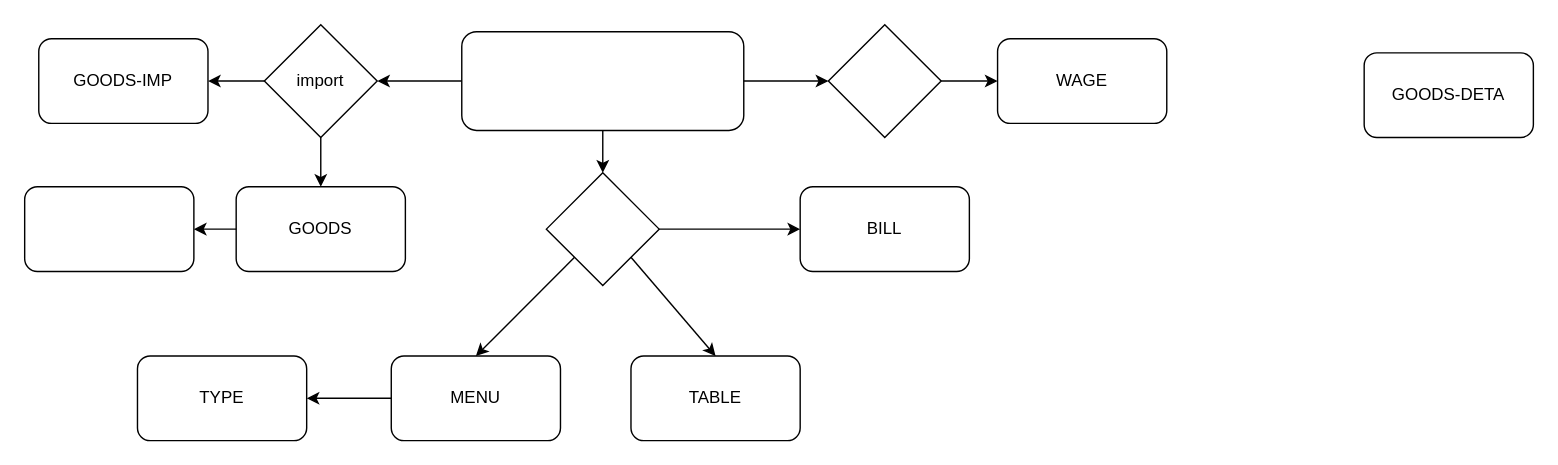
The diagram is 1558 pixels wide and 465 high, and some of its shapes have lost their labels. The shapes that lost their labels are listed below. From the top down, each one's centre as x and y in pixels, then its label:
At point 602,80: "USERS".
At point 884,80: "have".
At point 108,228: "SUPPLIER".
At point 602,228: "order".
